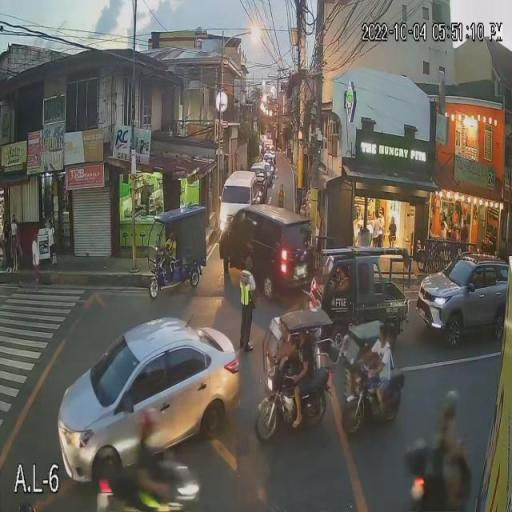helmet: (136, 407, 159, 439)
motorcycle: (93, 473, 204, 512)
rider: (132, 442, 171, 512)
